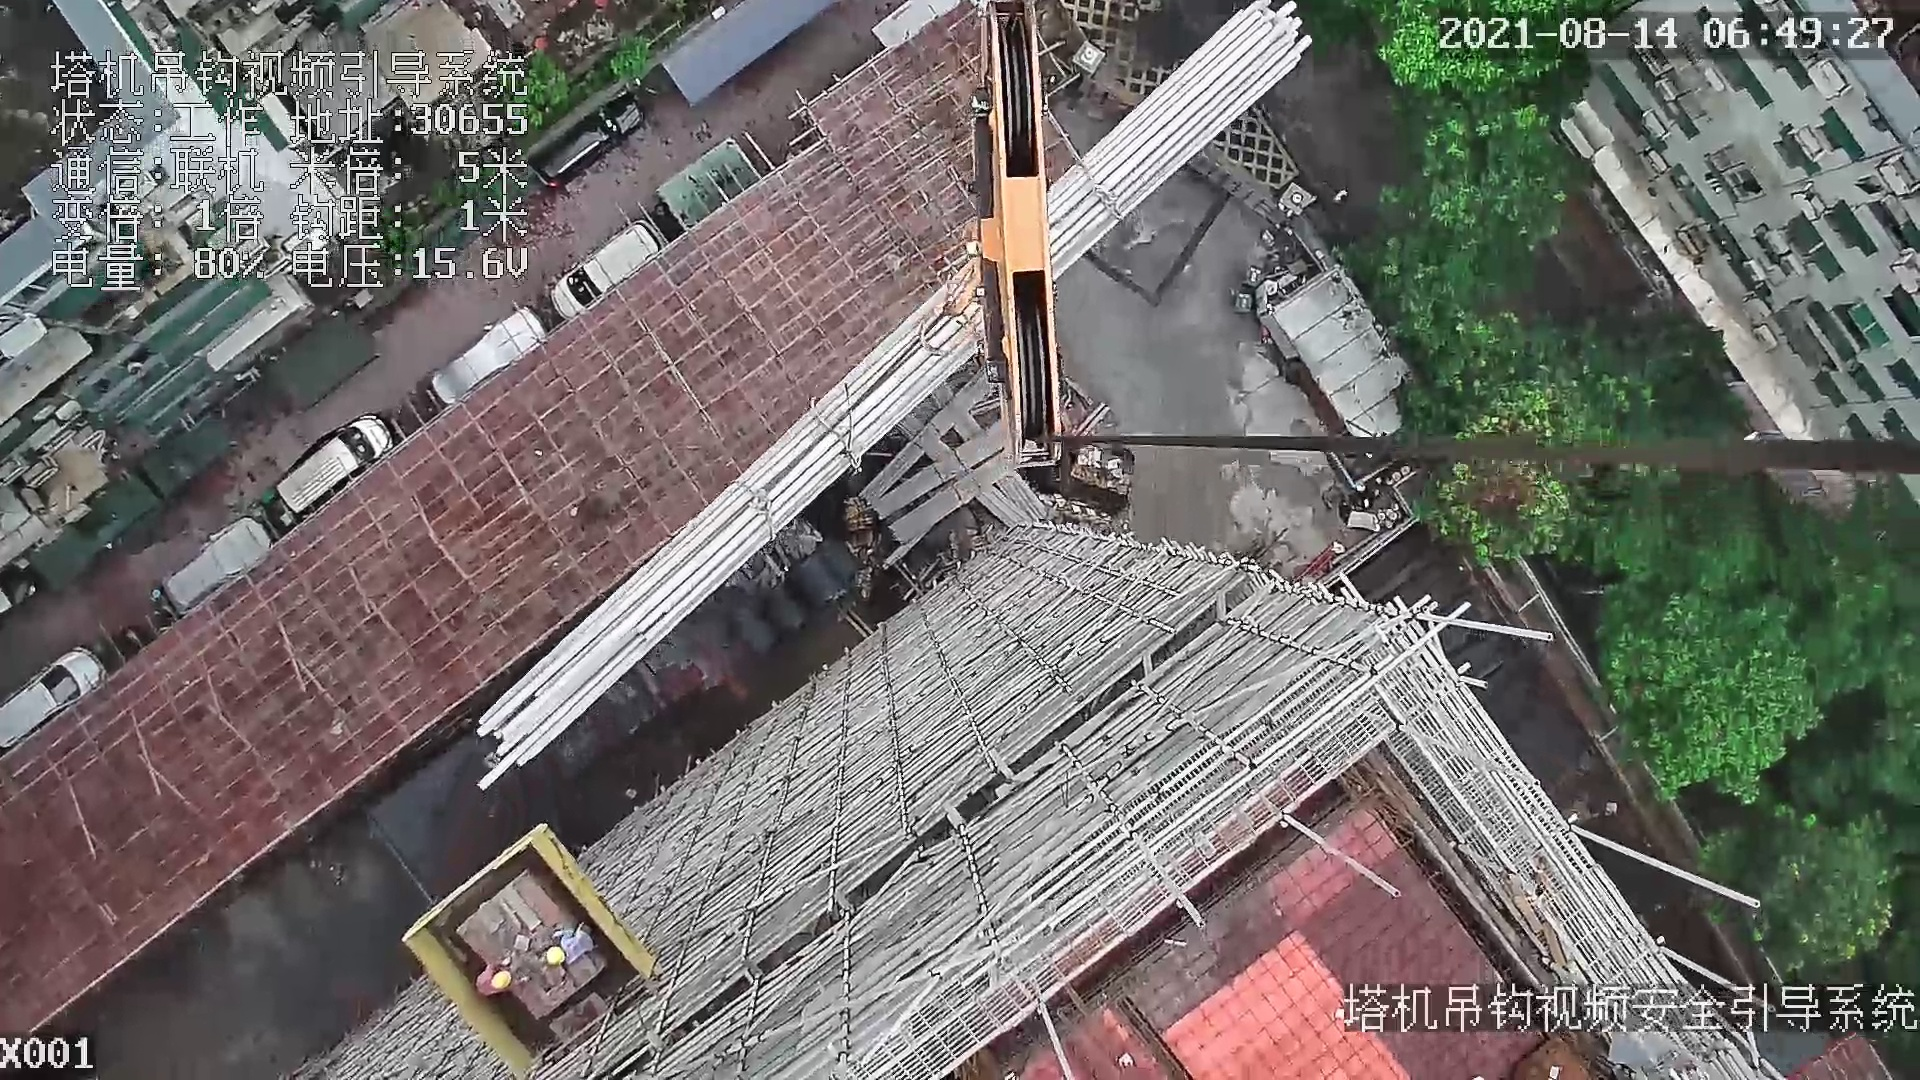helmet: (493, 964, 515, 990), (546, 946, 569, 967)
hook: (944, 1, 1072, 471)
person: (544, 924, 596, 980), (474, 956, 532, 1000)
